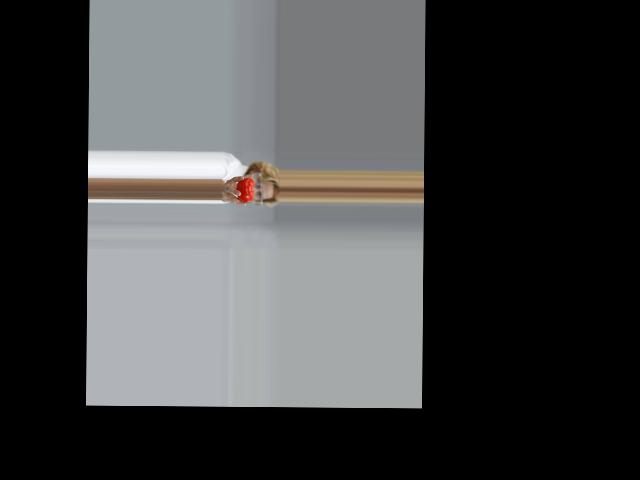tomato: (236, 176, 253, 202)
